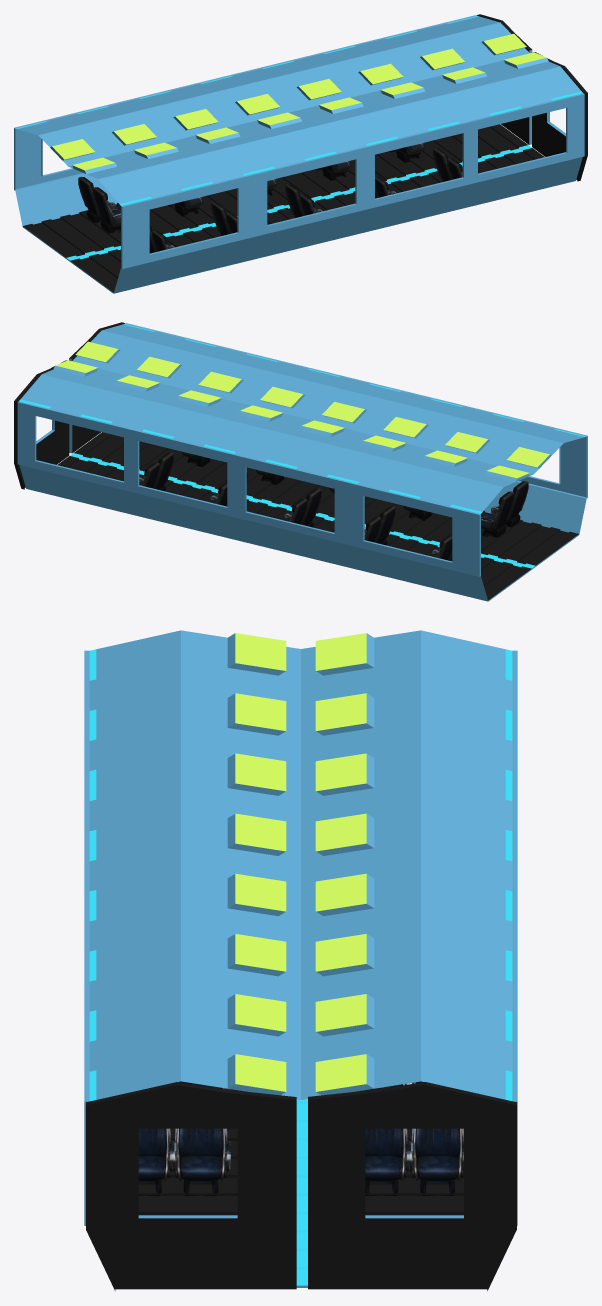
File: train_interior.glb
3 renders of one model, top to bottom at view 1: azimuth 30°, elevation 25°; view 2: azimuth 150°, elevation 25°; view 3: azimuth 270°, elevation 25°, orthographic. The views are drawn at different scales.
Visible parts, largest first — view 1: Plane, tripo_node_3f0b14df, tripo_node_3f0b14df.001, Plane.003, Plane.004; view 2: Plane, tripo_node_3f0b14df, tripo_node_3f0b14df.001, Plane.004, Plane.003; view 3: Plane, Plane.003, Plane.004, tripo_node_3f0b14df, tripo_node_3f0b14df.001.
Part boxes in pixels (x1,y1,x2,y2): Plane: (14, 15, 584, 293); tripo_node_3f0b14df: (78, 142, 425, 233); tripo_node_3f0b14df.001: (149, 148, 462, 253); Plane.003: (532, 52, 587, 181); Plane.004: (477, 14, 532, 144); Plane: (17, 323, 587, 601); tripo_node_3f0b14df: (139, 452, 452, 561); tripo_node_3f0b14df.001: (181, 451, 528, 537); Plane.004: (14, 360, 69, 489); Plane.003: (69, 322, 124, 453); Plane: (84, 630, 517, 1287); Plane.003: (86, 1082, 296, 1290); Plane.004: (308, 1082, 516, 1290); tripo_node_3f0b14df: (354, 1081, 463, 1195); tripo_node_3f0b14df.001: (138, 1081, 230, 1195).
Bounding box in the file's own units: 9.05 × 1.92 × 3.64.
5 materials, 1 textured.
